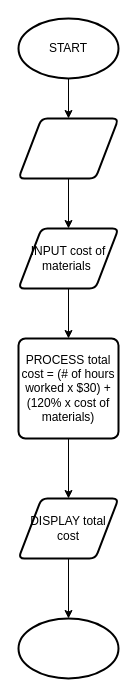
This 136x696 diagram has some shape labels left out. Each missing label, with the centre of its shape:
END: pixel 68 648
INPUT # of hours worked: pixel 68 148
